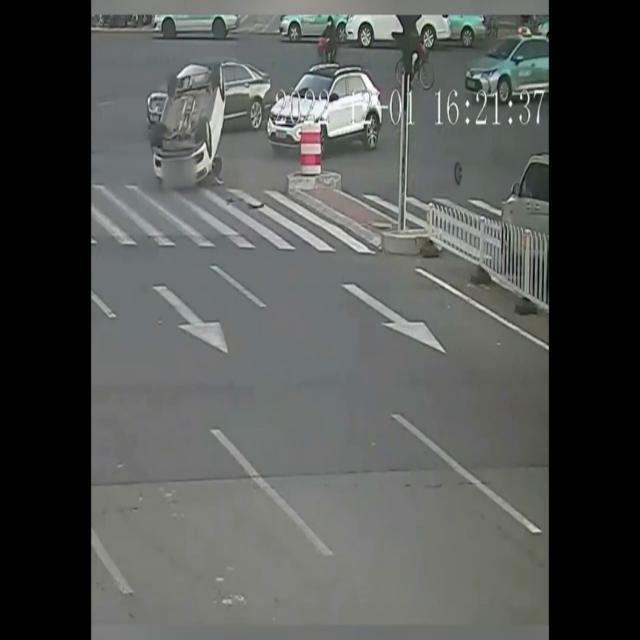accident: (150, 59, 272, 183), (152, 58, 226, 184)
